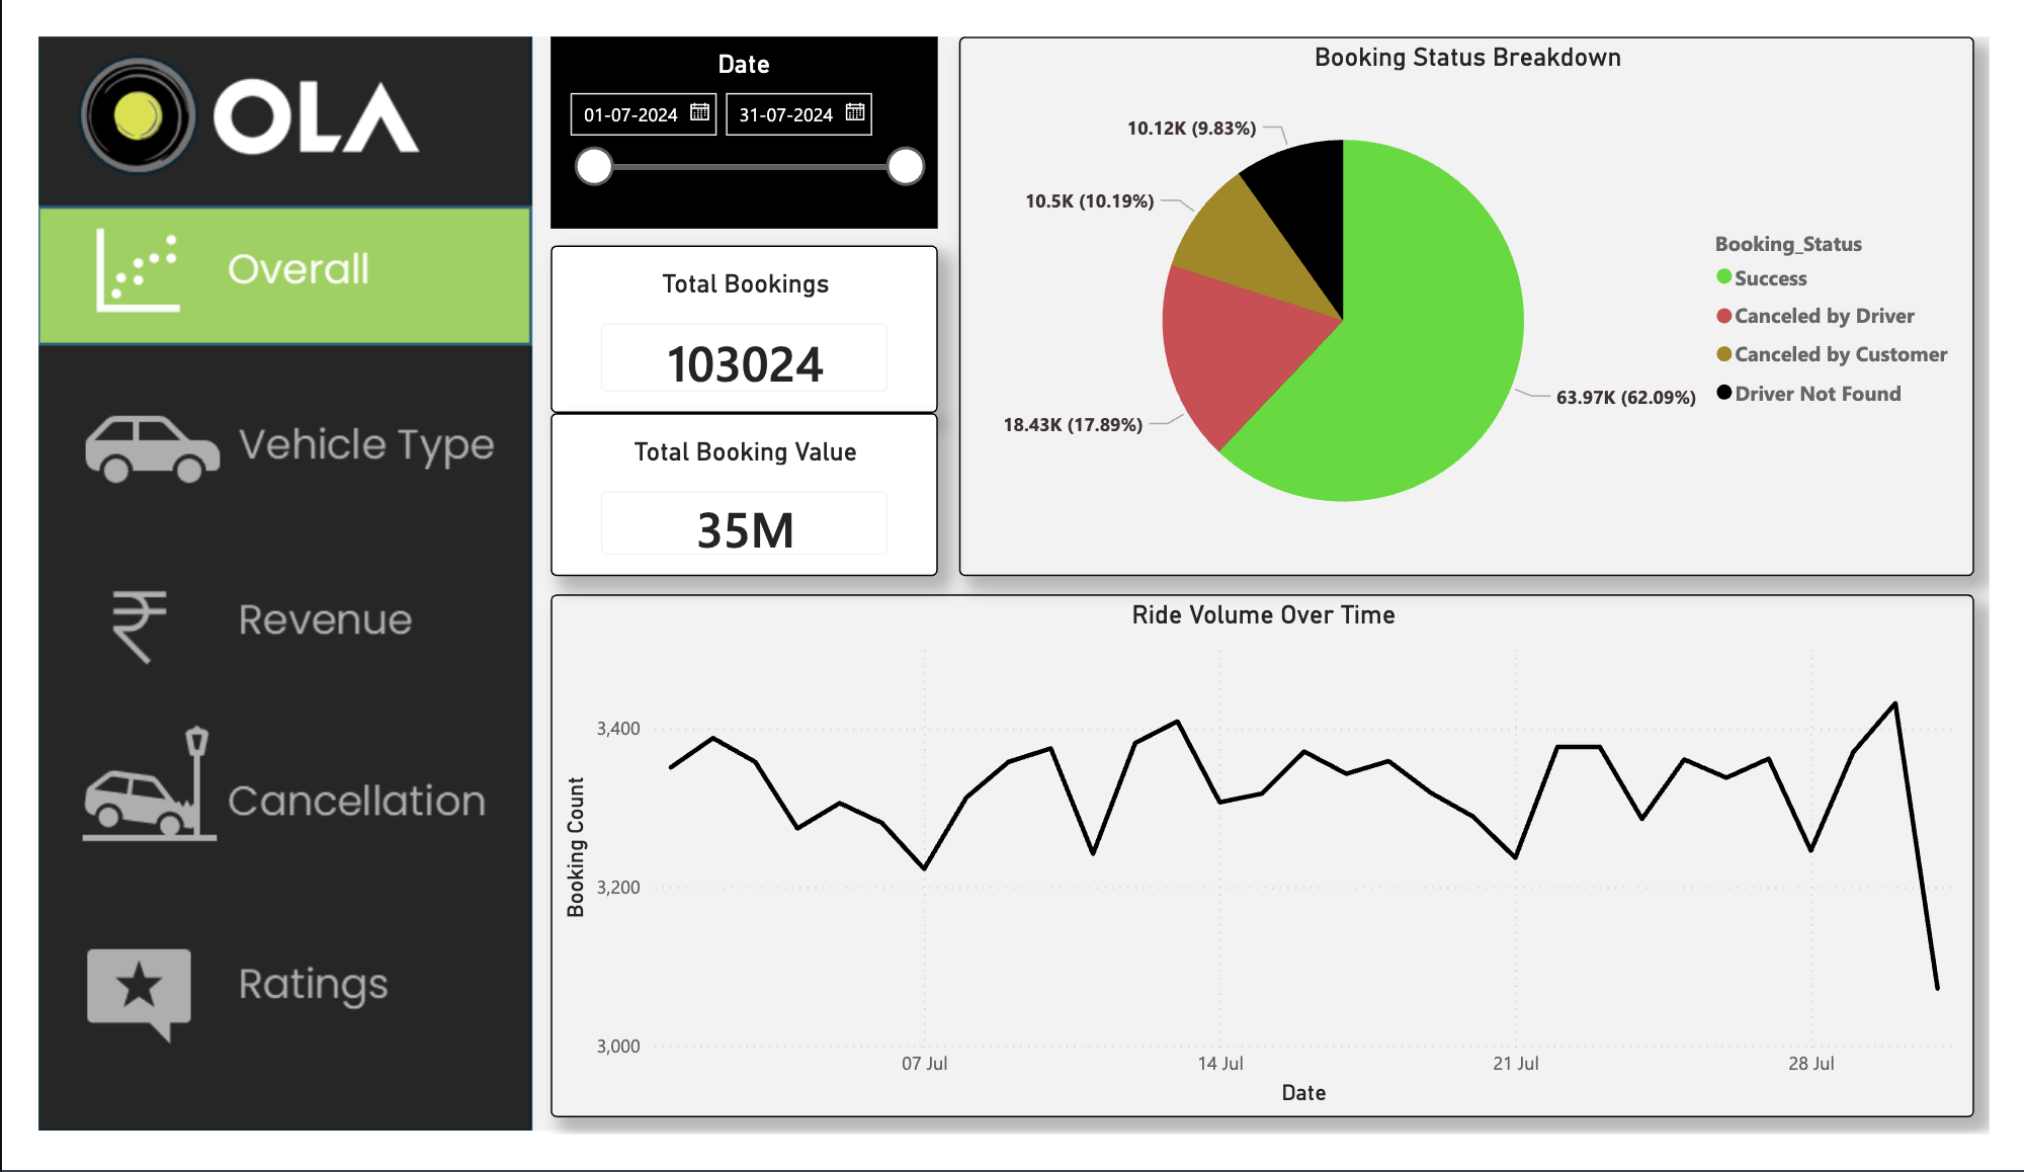

The dashboard page shown, as its layout file describes it:
{"tool":"powerbi","page":{"name":"Overall","canvas":[1280,720],"ordinal":0},"visuals":[{"type":"actionButton","box":[0,220.8,323.3,91.7],"z":0},{"type":"actionButton","box":[0,340.2,323.3,91.7],"z":1000},{"type":"actionButton","box":[0,457.2,323.3,91.7],"z":2000},{"type":"actionButton","box":[0,575.5,323.3,91.7],"z":3000},{"type":"lineChart","title":"Ride Volume Over Time","fields":{"Category":["Bookings (3).Date"],"Y":["CountNonNull(Bookings (3).Booking_ID)"]},"box":[335.7,365.7,934.3,342.9],"z":4000},{"type":"pieChart","title":"Booking Status Breakdown","fields":{"Category":["Bookings (3).Booking_Status"],"Y":["CountNonNull(Bookings (3).Booking_Status)"]},"box":[604.3,0,665.7,354.3],"z":5000},{"type":"slicer","title":"Date","fields":{"Values":["Bookings (3).Date"]},"box":[335.7,0,254.3,125.7],"z":6000},{"type":"cardVisual","title":"Total Bookings","fields":{"Data":["CountNonNull(Bookings (3).Booking_ID)"]},"box":[335.7,137.1,254.3,110],"z":7000},{"type":"cardVisual","title":"Total Booking Value","fields":{"Data":["Sum(Bookings (3).Booking_Value)"]},"box":[335.7,247.1,254.3,107.1],"z":8000}]}

Visuals, with their boxes in screenshot pixels (x1, y1, x2, y2), scaled from the page's 1280x720 canvas onto the 2024x1172 screenshot:
actionButton: locate(0, 359, 511, 509)
actionButton: locate(0, 554, 511, 703)
actionButton: locate(0, 744, 511, 893)
actionButton: locate(0, 937, 511, 1086)
"Ride Volume Over Time" lineChart: locate(531, 595, 2008, 1153)
"Booking Status Breakdown" pieChart: locate(956, 0, 2008, 577)
"Date" slicer: locate(531, 0, 933, 205)
"Total Bookings" cardVisual: locate(531, 223, 933, 402)
"Total Booking Value" cardVisual: locate(531, 402, 933, 577)
